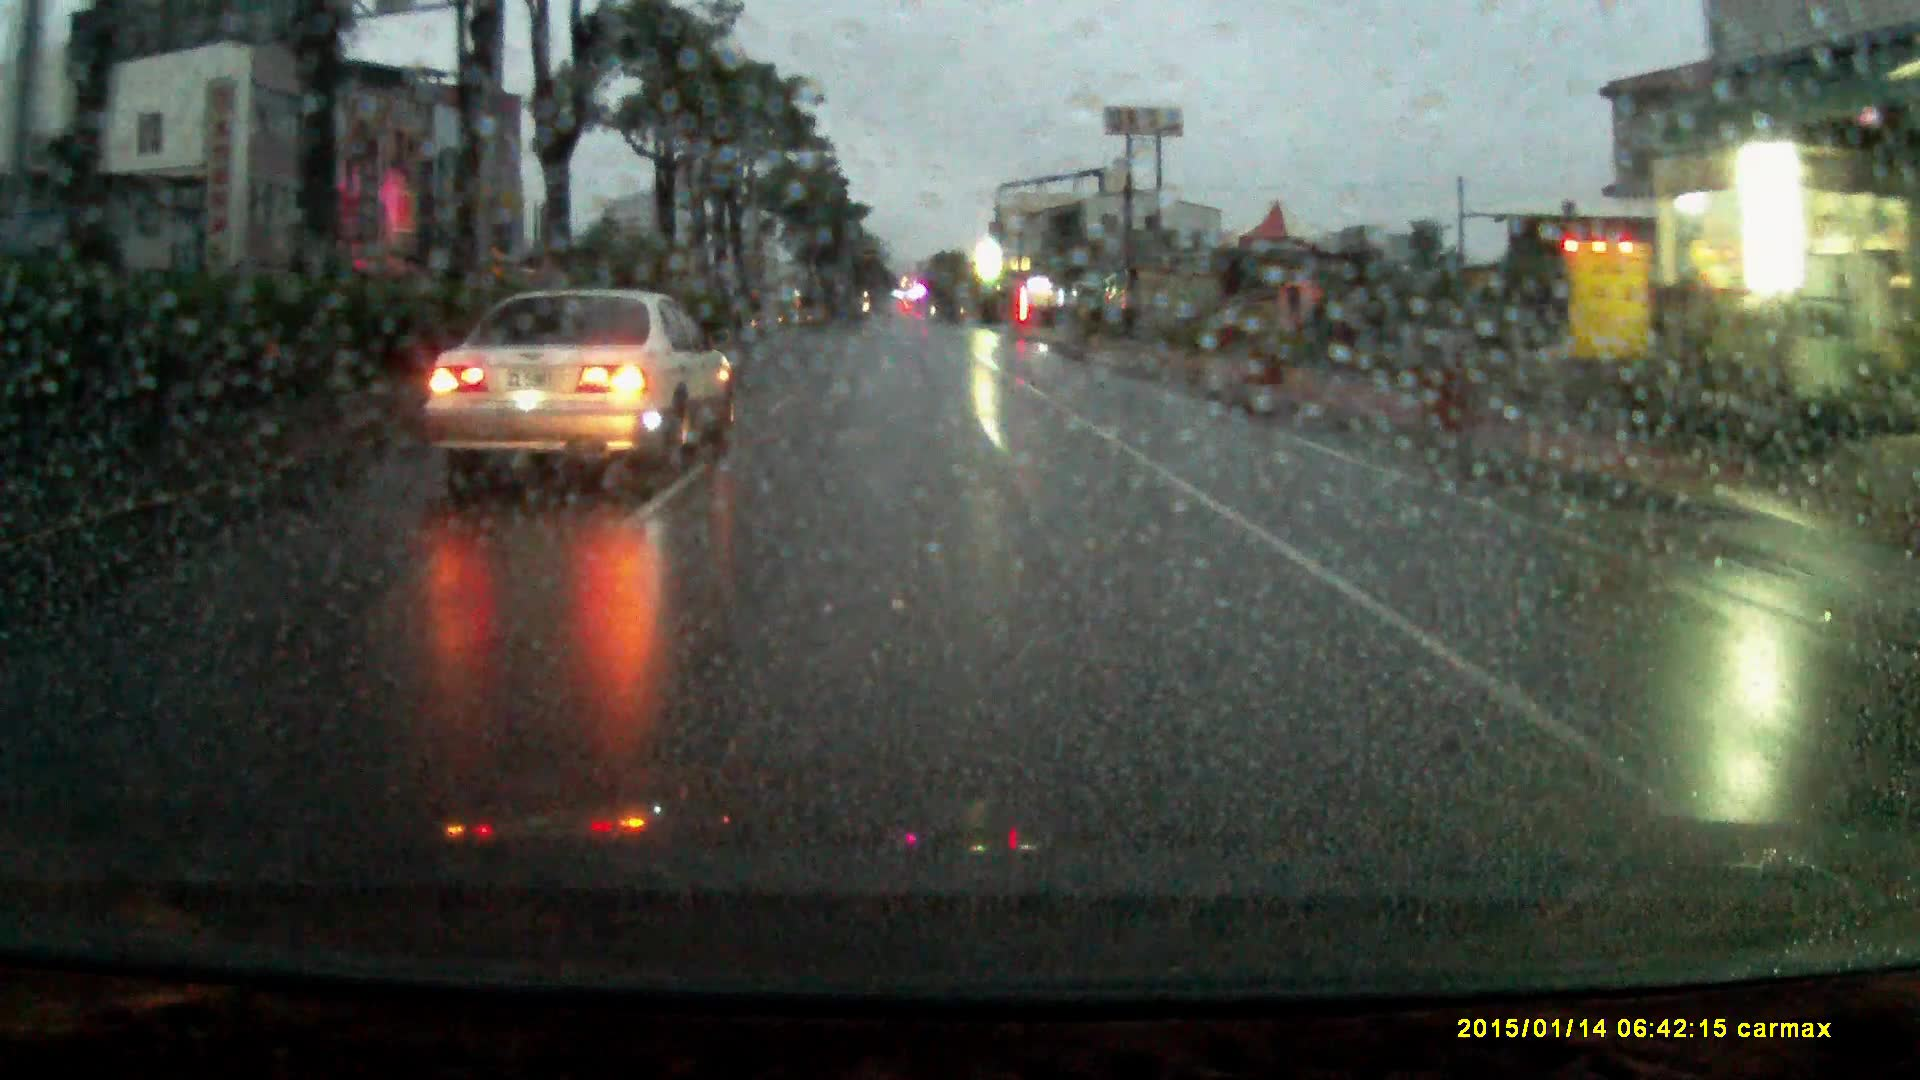vehicle: (427, 287, 748, 497)
